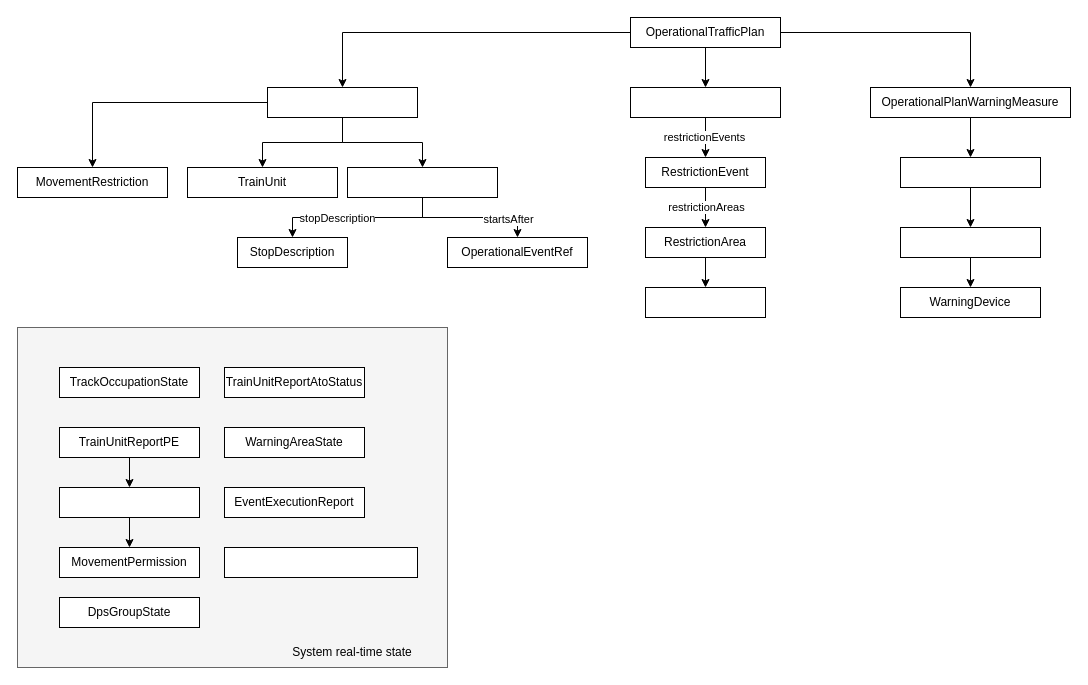
This 1088x685 diagram has some shape labels left out. Here are the shapes that lost their labels. From the top down, the centre of each, then its label:
At (342,102): "OperationalPlanMovement".
At (705,102): "OperationalPlanRestriction".
At (422,182): "MovementEvent".
At (970,172): "WarningMeasureEvent".
At (970,242): "WarningArea".
At (705,302): "SpecificRestriction".
At (129,502): "TrainObject".
At (321,562): "TrainUnitReportAtoCapabilities".
